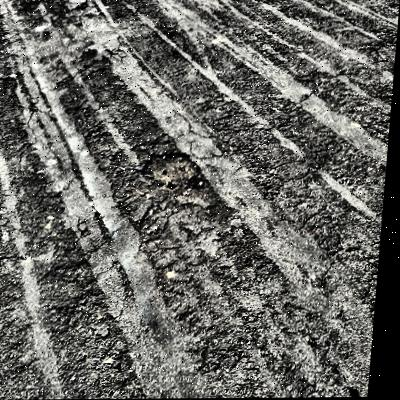pothole: (141, 150, 208, 190)
